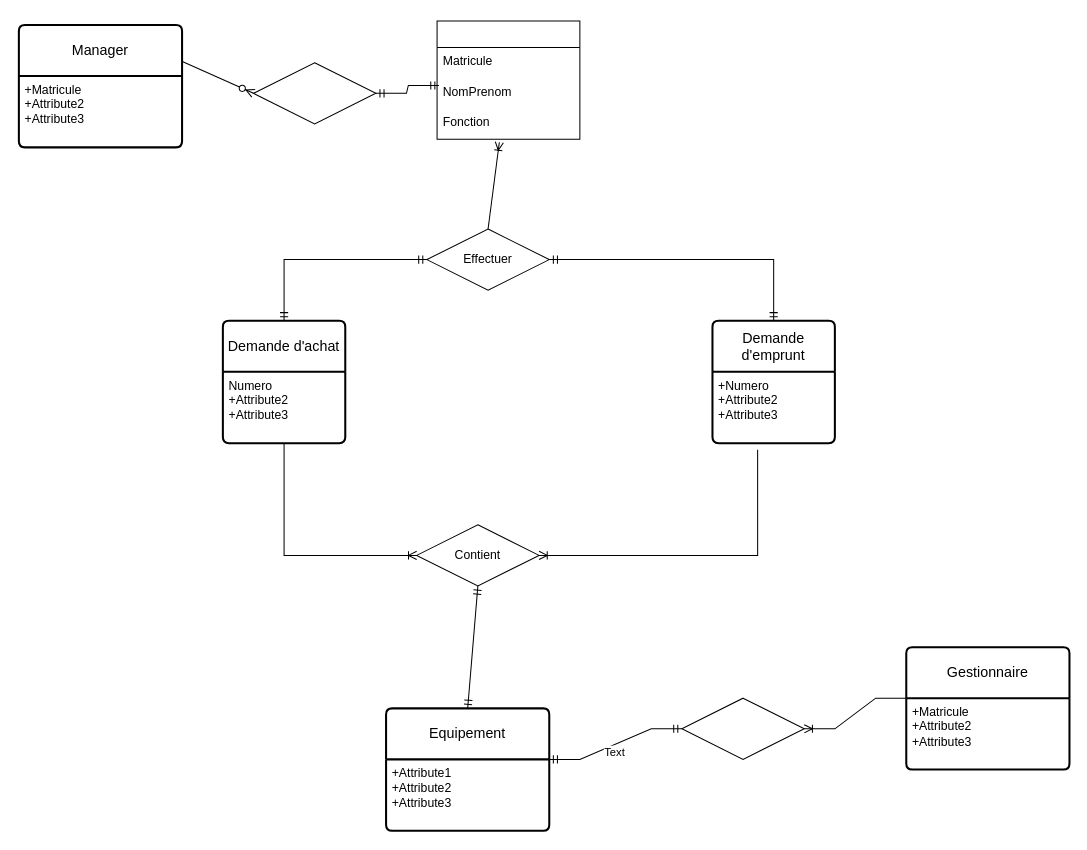
Some shapes in this 1087 by 850 pixel diagram are drawn without their labels. The box of each missing label's shape, as (x1, y1, x2, y2) in pixels:
Employee: (436, 20, 580, 139)
Gérer: (681, 697, 804, 759)
Supervise: (252, 62, 376, 124)
